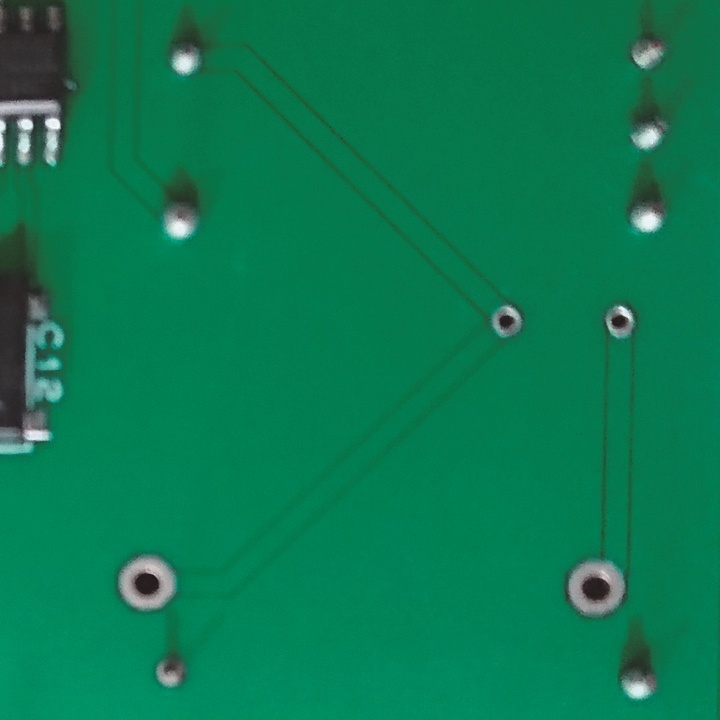F: (561, 555, 629, 620), (113, 552, 181, 614), (147, 651, 193, 695), (627, 32, 671, 74), (601, 301, 639, 343), (489, 300, 527, 342)
